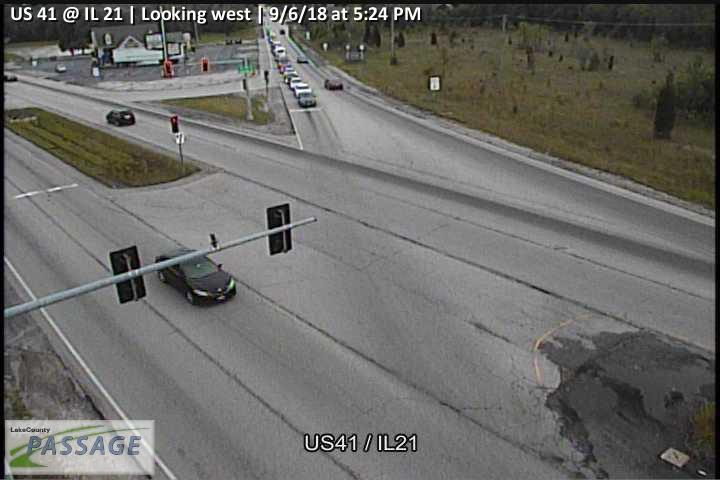SUV: (106, 108, 136, 129), (324, 77, 345, 91), (296, 53, 308, 64)
Sedan: (152, 248, 238, 307), (296, 92, 318, 107), (296, 84, 312, 95), (290, 76, 304, 86), (278, 60, 290, 70), (285, 73, 301, 80)
Truck: (274, 46, 288, 59)
